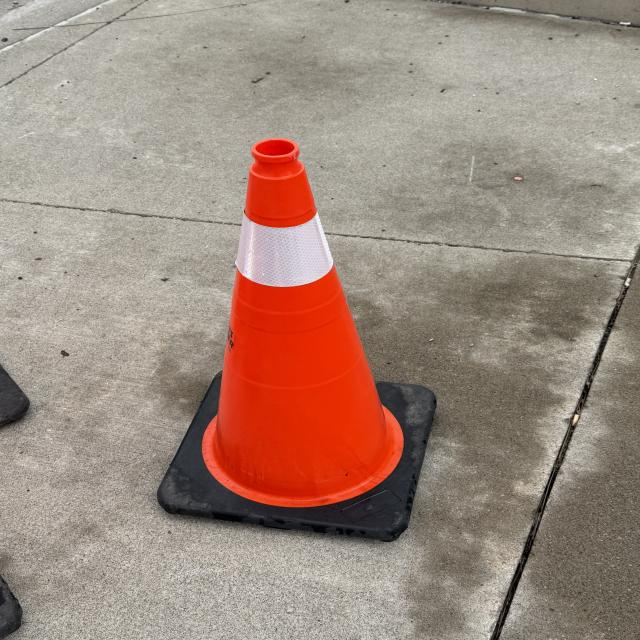Traffic Cone: (156, 140, 434, 538)
